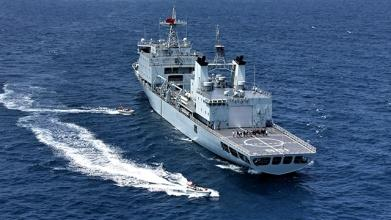otherboat: (184, 173, 214, 201), (111, 106, 134, 118)
warship: (133, 4, 320, 173)
